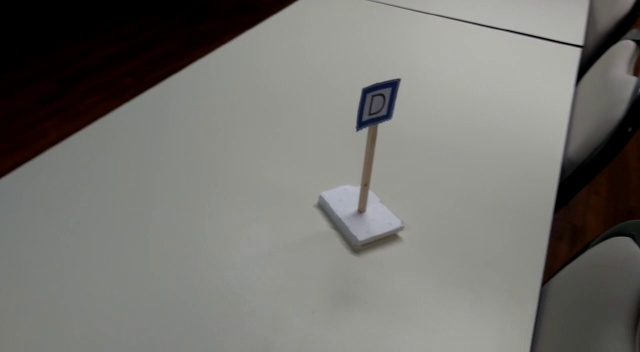durak: (353, 79, 399, 130)
